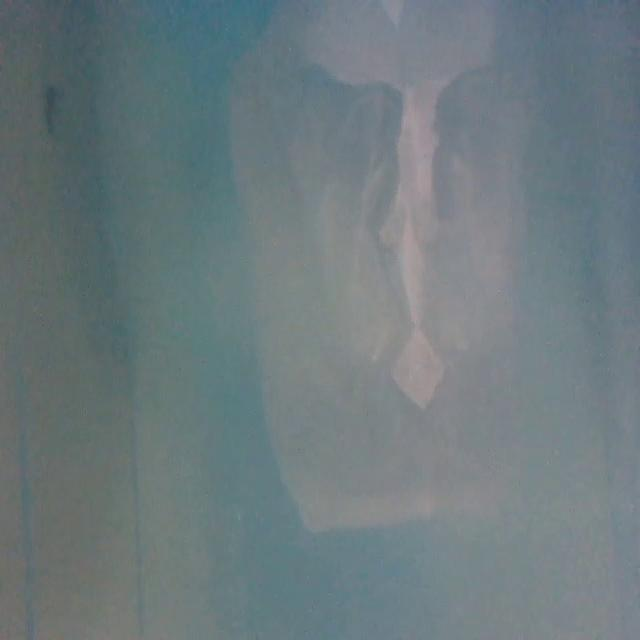plastic bags: (226, 3, 531, 537)
